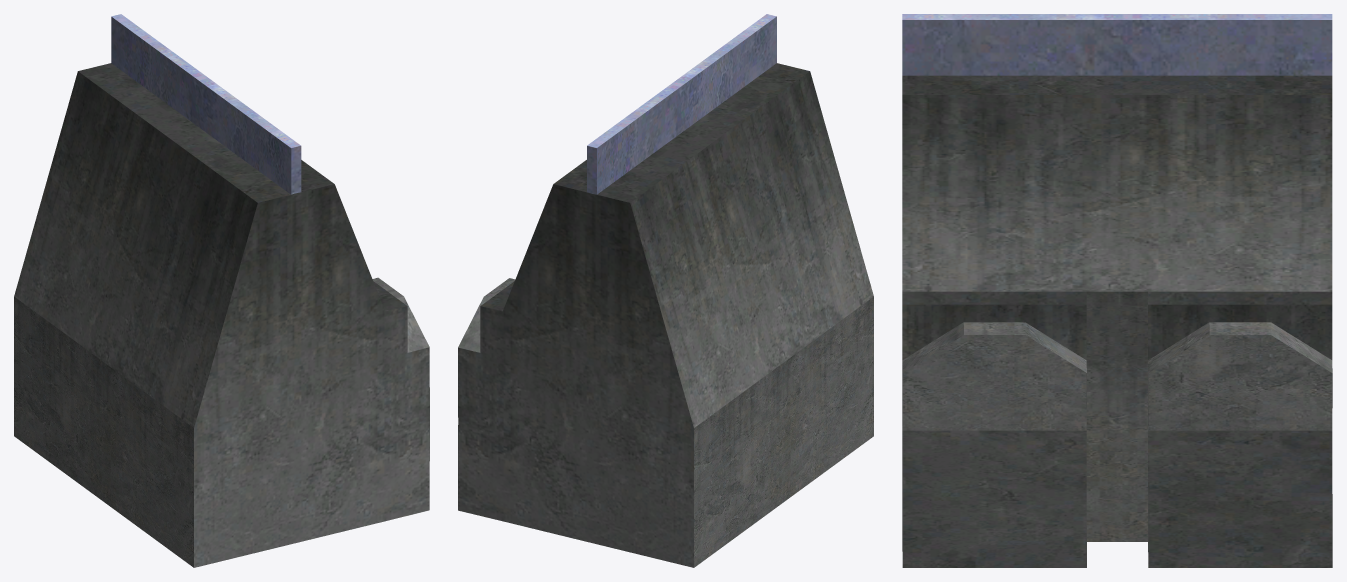
The model's file is thm_yavn_jedi_enclave_dark_r4_landing2_mesh.fbx.
3 views of the same model, side by side, from view 1: azimuth 30°, elevation 25°; view 2: azimuth 150°, elevation 25°; view 3: azimuth 270°, elevation 25° (orthographic). The views are drawn at different scales.
Visible parts, largest first — view 1: mesh_node; view 2: mesh_node; view 3: mesh_node.
Part boxes in pixels (box(x1,y1,x2,y2)): mesh_node: box(14, 14, 429, 567); mesh_node: box(458, 14, 873, 567); mesh_node: box(902, 14, 1332, 567).
Bounding box in the file's own units: 5.3 × 8.5 × 7.01.
